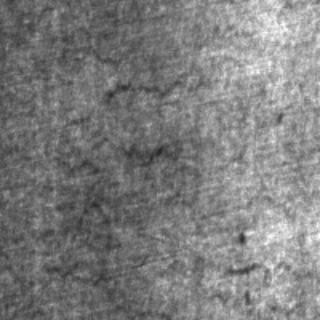crazing: (38, 75, 184, 177), (41, 197, 162, 317)
